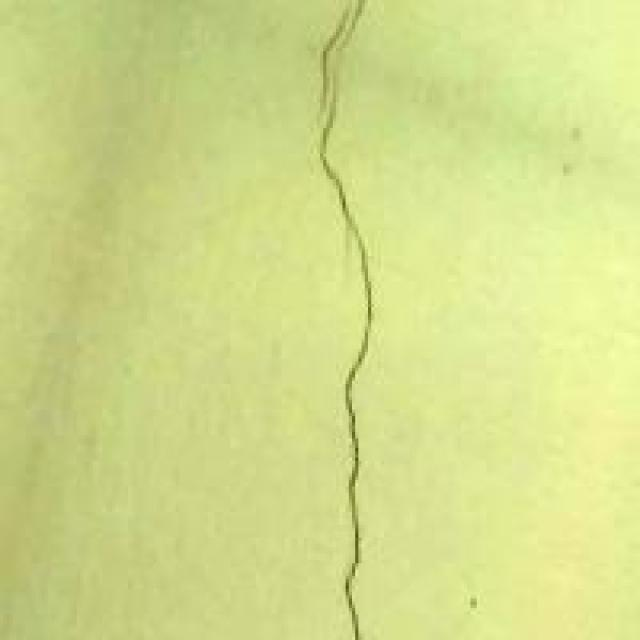crack: (237, 0, 454, 637)
